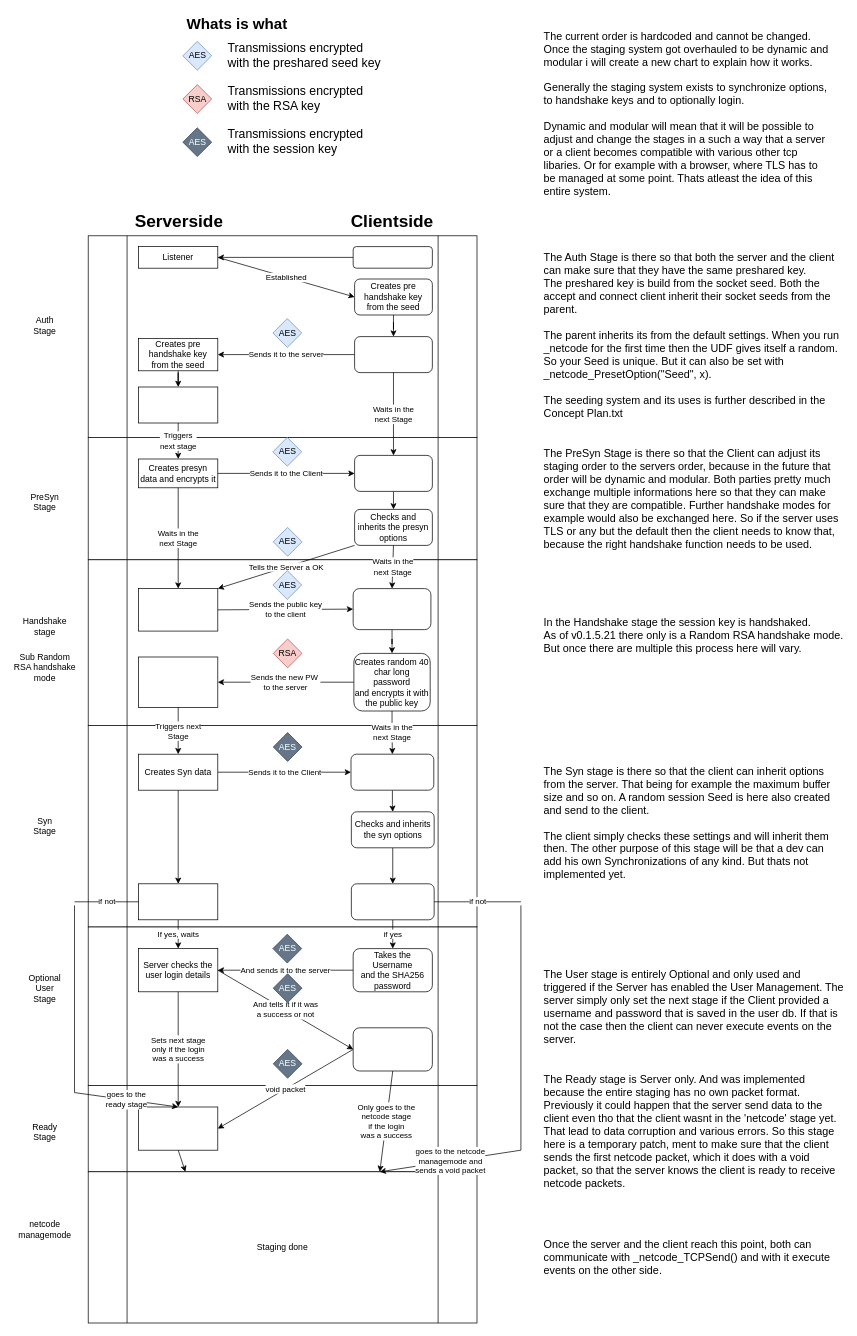
Image size: 857x1336. Some labels were removed from this diagram. Each missing label, with the centre of its shape:
"Checks if the Server is User Managed" goes at (x=178, y=901).
"Checks if the Server requires a User login" goes at (x=392, y=901).
"Connect" goes at (x=392, y=257).
"Creates a RSA keypair" goes at (x=178, y=609).
"Decrypts the new PW and makes it the session key" goes at (x=178, y=681).
"Decrypts the public rsa key" goes at (x=391, y=609).
"Decrypts the Syn data" goes at (x=392, y=771).
"Encrypts the String 'netcode' with it" goes at (x=393, y=354).
"Moves the void packet to the next stage" goes at (x=178, y=1128).
"Proccesses the answer. if success sends the Server a Void packet." goes at (x=392, y=1049).
"Tries to decrypt the presyn data" goes at (x=393, y=473).
"Tries to decrypt the string from the client with it" goes at (x=178, y=404).
